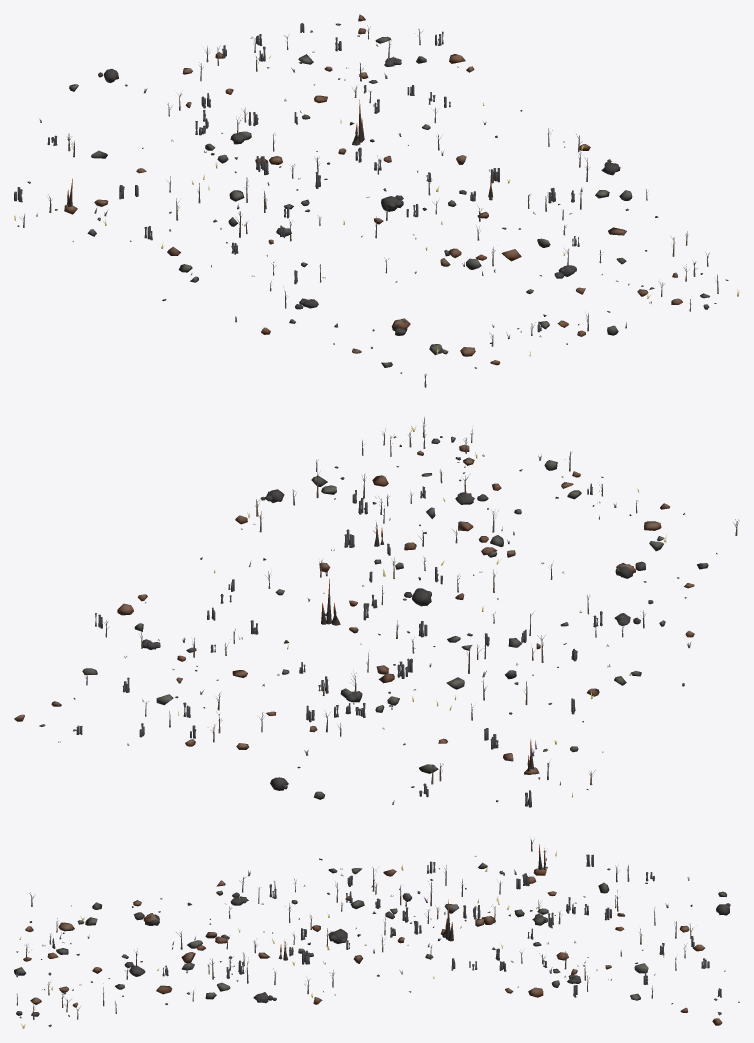
The model's file is ash_land_scatter_c14_29.glb.
3 views of the same model, one above another, from view 1: azimuth 30°, elevation 25°; view 2: azimuth 150°, elevation 25°; view 3: azimuth 270°, elevation 25° (orthographic). The views are drawn at different scales.
Parts seen in each view (by area): view 1: ash_land_scatter_c14_29; view 2: ash_land_scatter_c14_29; view 3: ash_land_scatter_c14_29.
Boxes of the visible parts, <box> form: ash_land_scatter_c14_29: <box>14,14,739,387</box>; ash_land_scatter_c14_29: <box>14,417,739,807</box>; ash_land_scatter_c14_29: <box>14,839,739,1028</box>.
Bounding box in the file's own units: 171 × 33.42 × 254.
